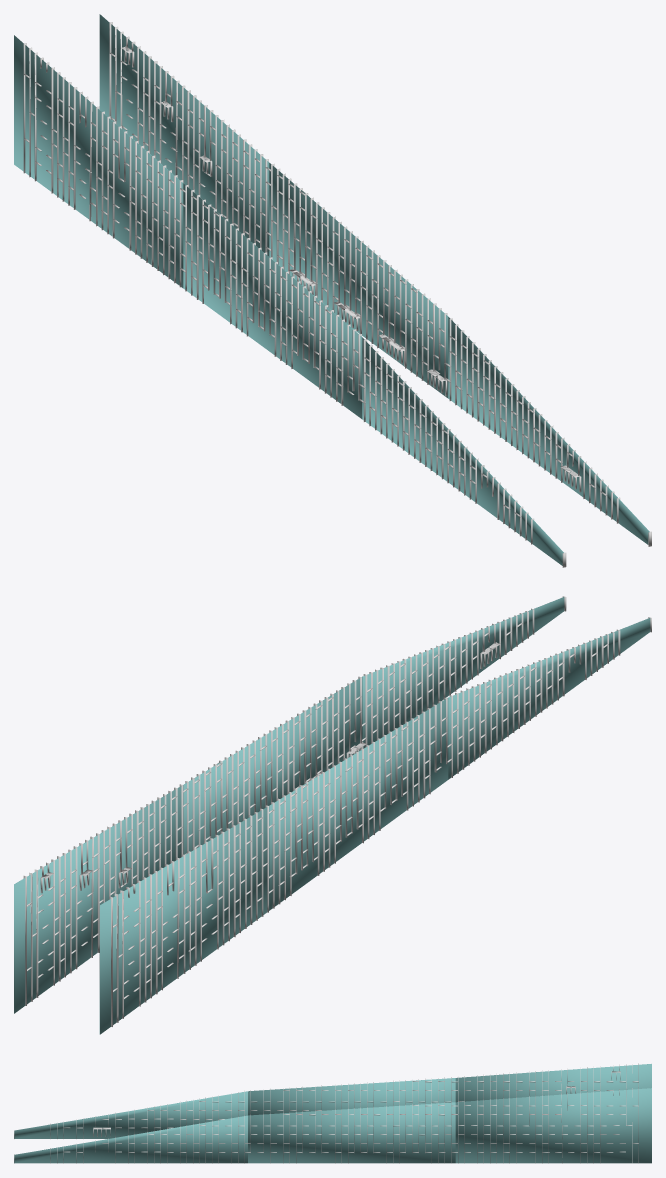
File: ecccomplete2.fbx
The picture shows the model from 3 angles, top to bottom: view 1: azimuth 30°, elevation 25°; view 2: azimuth 150°, elevation 25°; view 3: azimuth 270°, elevation 25°; orthographic projection. The views are drawn at different scales.
Visible parts, largest first — view 1: MeshChunk_3_3, MeshChunk_102_2, MeshChunk_411, MeshChunk_486; view 2: MeshChunk_3_3, MeshChunk_102_2, MeshChunk_411; view 3: MeshChunk_3_3, MeshChunk_102_2, MeshChunk_411.
Boxes of the visible parts, x1=… form: MeshChunk_3_3: x1=14, y1=14, x2=649, y2=565; MeshChunk_102_2: x1=23, y1=22, x2=651, y2=567; MeshChunk_411: x1=23, y1=53, x2=607, y2=517; MeshChunk_486: x1=124, y1=46, x2=581, y2=492; MeshChunk_3_3: x1=14, y1=597, x2=650, y2=1034; MeshChunk_102_2: x1=23, y1=596, x2=651, y2=1026; MeshChunk_411: x1=25, y1=622, x2=608, y2=1026; MeshChunk_3_3: x1=14, y1=1064, x2=651, y2=1163; MeshChunk_102_2: x1=14, y1=1063, x2=638, y2=1163; MeshChunk_411: x1=64, y1=1081, x2=638, y2=1163.
Size of the model in its own units: 109 by 150 by 1156.
